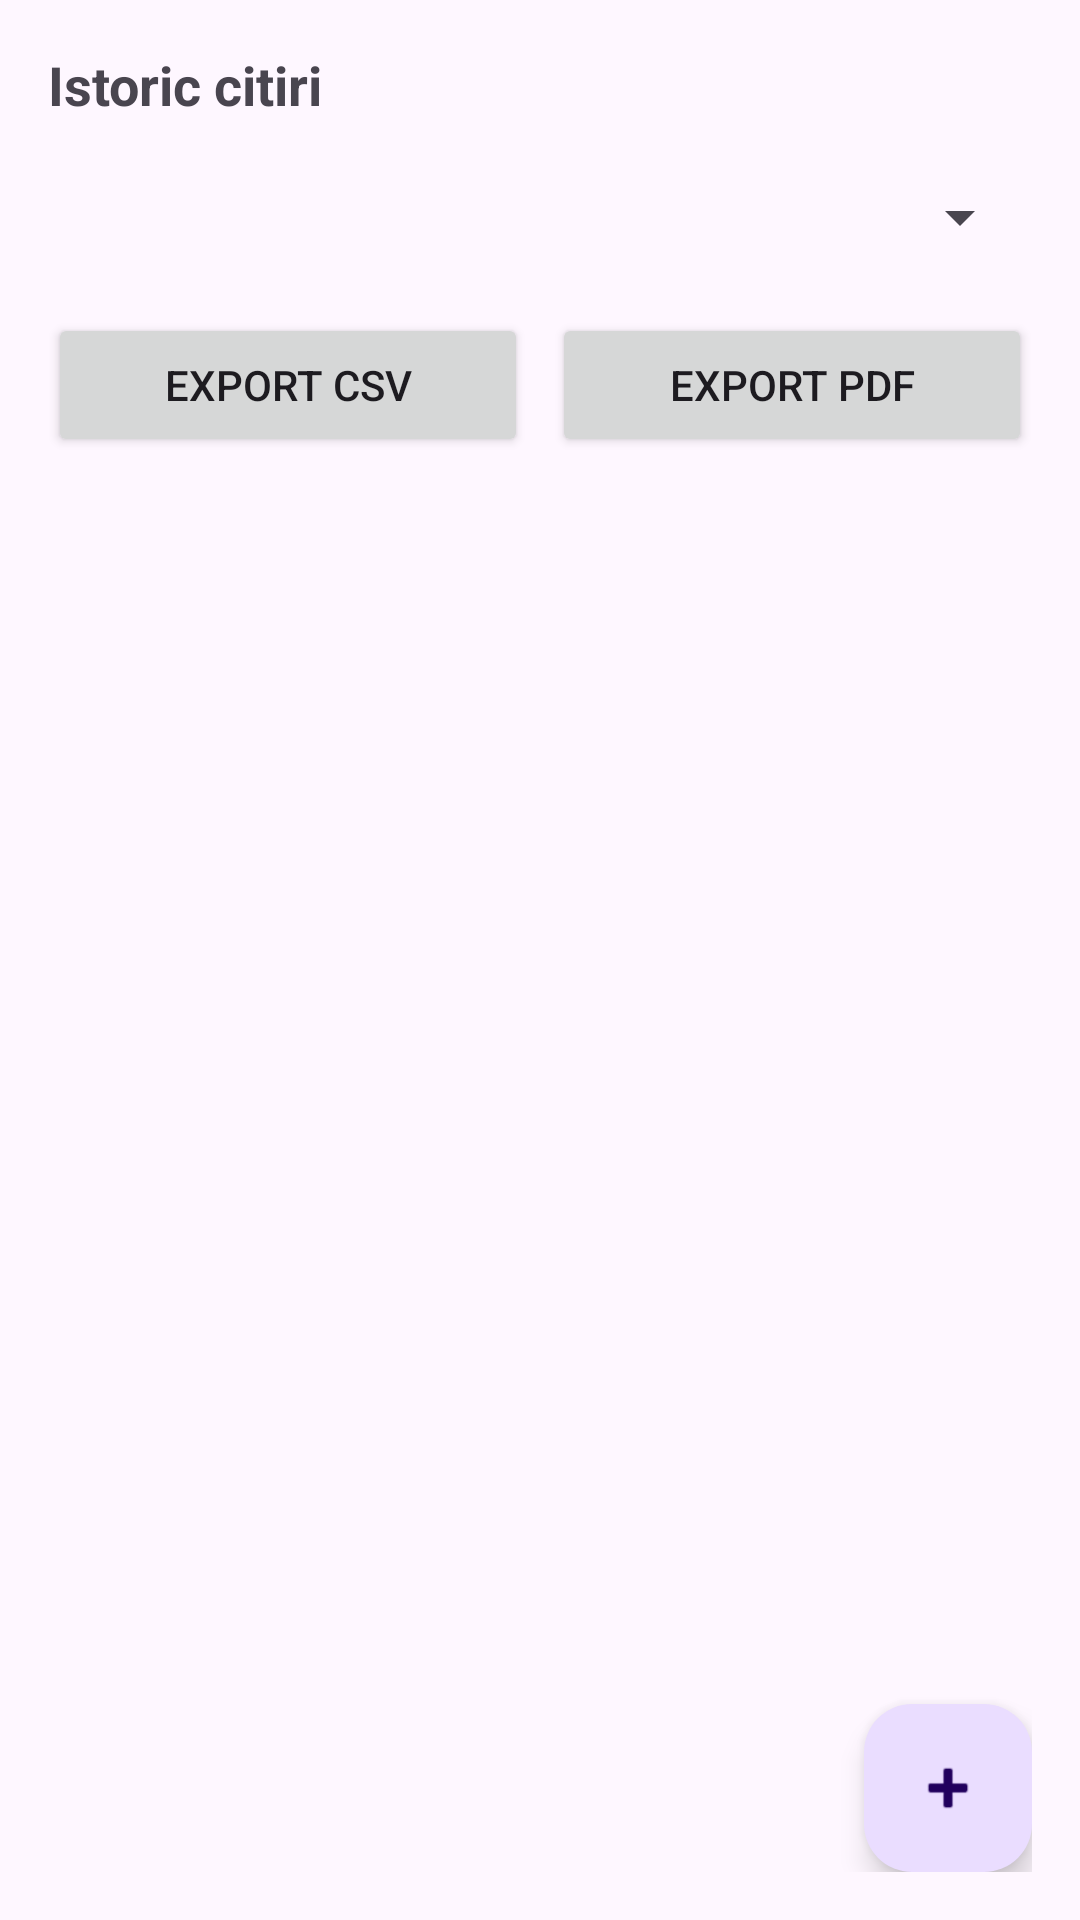

Where to tap for icons on this 1080 x 1920 app screen, as point (x, y):
Adaugă citire: point (948, 1788)
